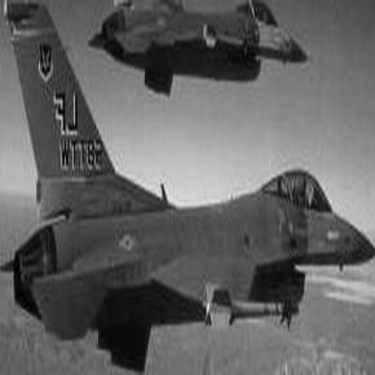airplane: (1, 14, 369, 369), (72, 3, 315, 96)
